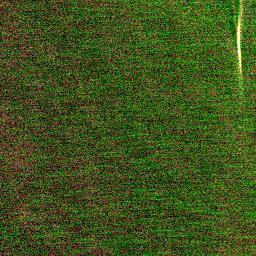Ship: (232, 16, 245, 63)
